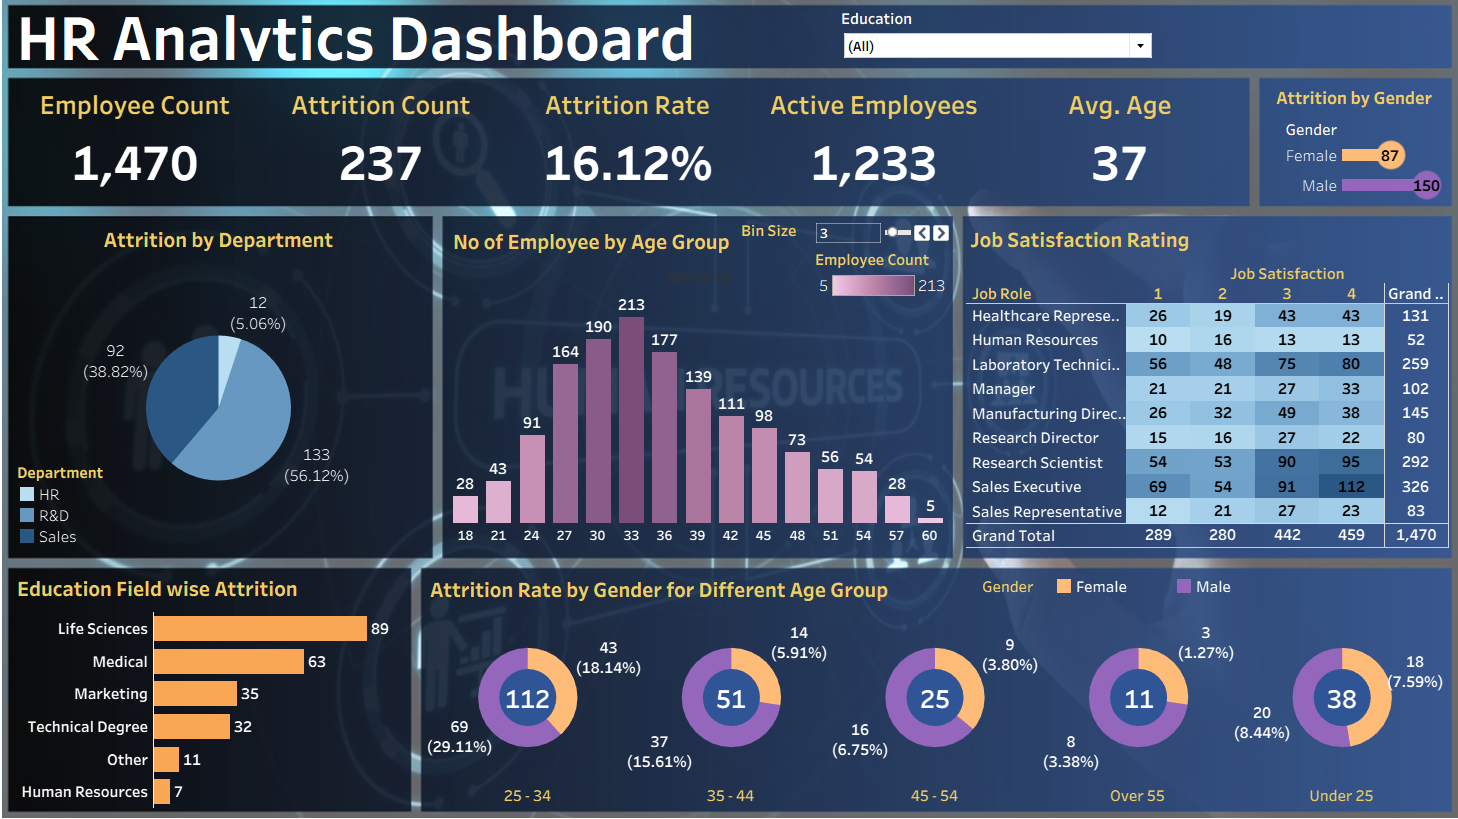

The dashboard page shown, as its layout file describes it:
{"tool":"tableau","page":{"name":"HR Analytics Dashboard","canvas":[1480,860],"ordinal":0},"visuals":[{"type":"image","param":"Image/HR background.pptx.png","box":[8,8,1464,844]},{"type":"filter","title":"KPI","param":"[federated.0mtyjgq1f9jkus1d6ewjc0120g9y].[none:Education:nk]","box":[851,29,314,53]},{"type":"text","box":[23,31,747,51]},{"type":"worksheet","title":"KPI","mark":"Automatic","box":[22,102,1231,120]},{"type":"worksheet","title":"Attrition by Gender","mark":"Automatic","rows":["Gender"],"cols":["Calculation_1561341739924856832","Calculation_1561341739924856832"],"box":[1272,103,184,118]},{"type":"parameter","param":"[Parameters].[Parameter 1]","box":[751,241,211,36]},{"type":"worksheet","title":"Attrition by Department","mark":"Pie","box":[29,242,399,332]},{"type":"worksheet","title":"Job Satisfaction Rating ","mark":"Square","rows":["Job Role"],"cols":["Job Satisfaction"],"box":[976,242,483,328]},{"type":"worksheet","title":"No of Employee by Age Group","mark":"Automatic","rows":["Employee Count"],"cols":["Age (bin)"],"box":[459,244,498,322]},{"type":"legend","title":"No of Employee by Age Group","param":"[federated.0mtyjgq1f9jkus1d6ewjc0120g9y].[sum:Employee Count:qk]","box":[825,270,135,58]},{"type":"legend","title":"Attrition by Department","param":"[federated.0mtyjgq1f9jkus1d6ewjc0120g9y].[none:Department:nk]","box":[27,483,140,85]},{"type":"worksheet","title":"Education Field wise Attrition","mark":"Automatic","rows":["Education Field"],"cols":["Calculation_1561341739924856832"],"box":[23,591,392,238]},{"type":"worksheet","title":"Attrition Rate by Gender for Different Age Group","mark":"Pie","rows":["Calculation_642888891561644034","Calculation_642888891561644034"],"cols":["CF_age band"],"box":[436,592,1018,236]},{"type":"legend","title":"Attrition Rate by Gender for Different Age Group","param":"[federated.0mtyjgq1f9jkus1d6ewjc0120g9y].[none:Gender:nk]","box":[992,597,351,30]}]}

Visuals, with their boxes on the page's 1480x860 design canvas (x1, y1, x2, y2). These are canvas units, not pixel positions in the 1458x819 screenshot, which may show the page scaled, cropped or inside an application window:
image: 8 8 1472 852
"KPI" filter: 851 29 1165 82
text: 23 31 770 82
"KPI" worksheet: 22 102 1253 222
"Attrition by Gender" worksheet: 1272 103 1456 221
parameter: 751 241 962 277
"Attrition by Department" worksheet (Pie marks): 29 242 428 574
"Job Satisfaction Rating " worksheet (Square marks): 976 242 1459 570
"No of Employee by Age Group" worksheet: 459 244 957 566
"No of Employee by Age Group" legend: 825 270 960 328
"Attrition by Department" legend: 27 483 167 568
"Education Field wise Attrition" worksheet: 23 591 415 829
"Attrition Rate by Gender for Different Age Group" worksheet (Pie marks): 436 592 1454 828
"Attrition Rate by Gender for Different Age Group" legend: 992 597 1343 627
